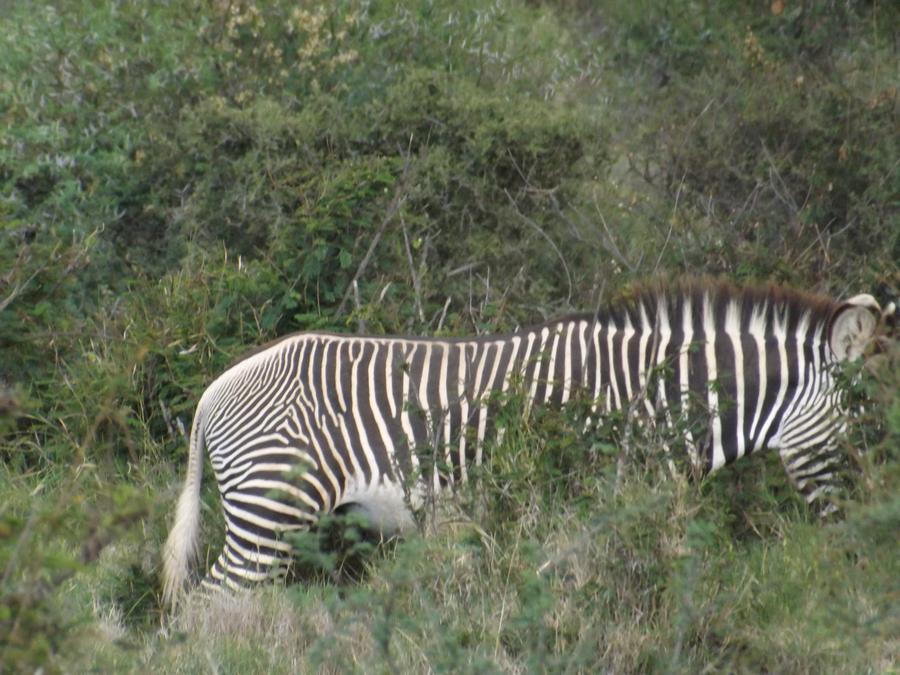zebra_grevys: (177, 306, 699, 505)
